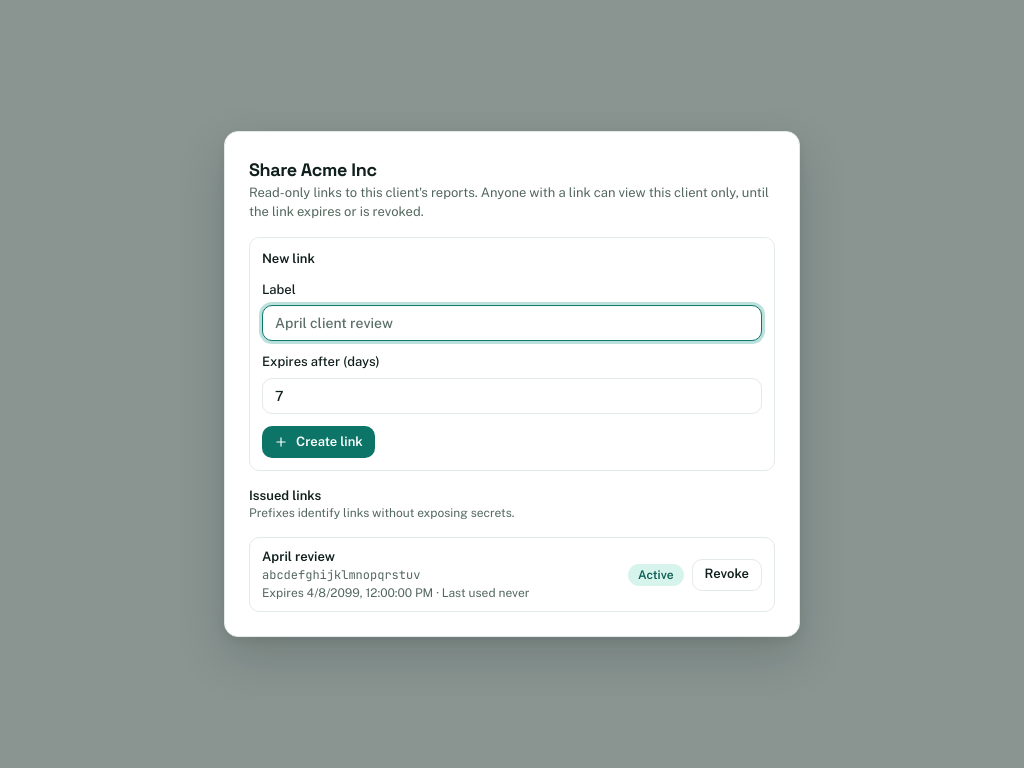
Scenario: magic link sharing › requires confirmation before revoking a link
Click the button "Revoke" at (727, 575), box [692,559,762,591]
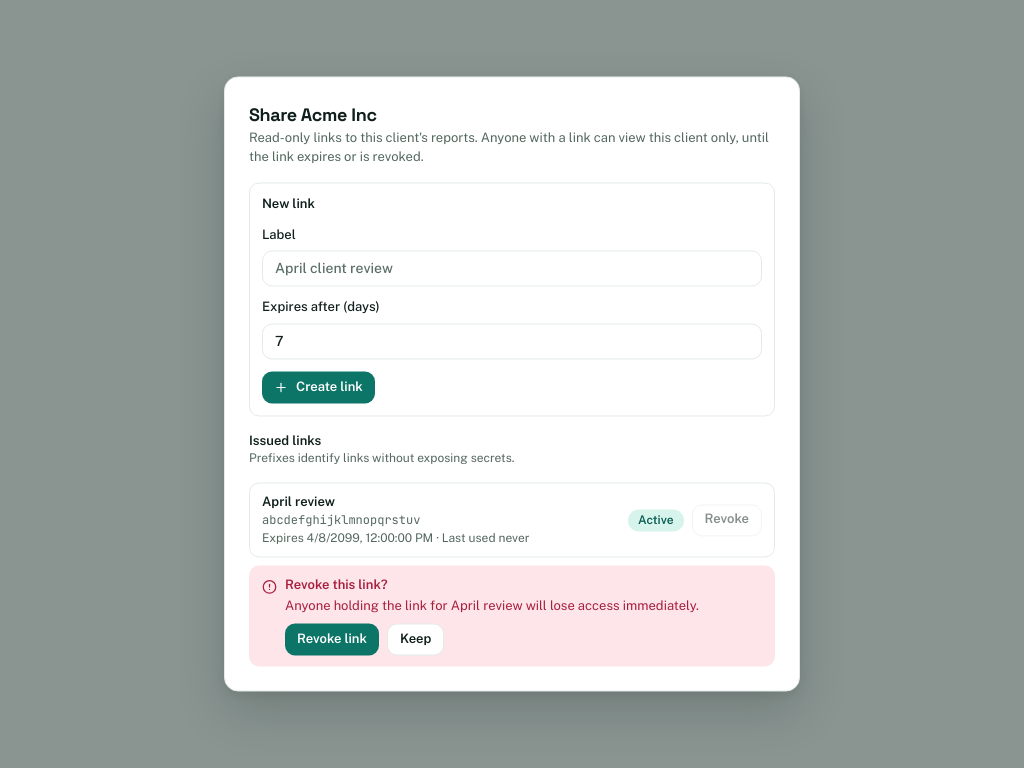
Now the text "will lose access immediately" is shown, box [523,598,699,613]
Click the button "Revoke link" at (332, 640), box [285,624,379,656]
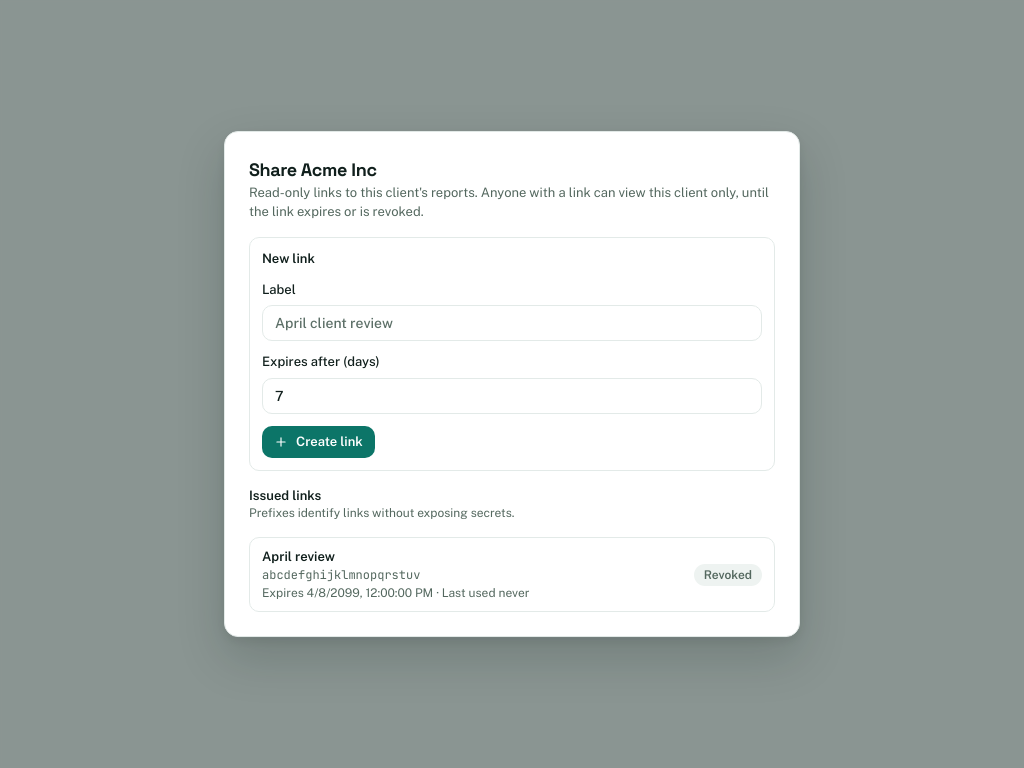
Now the text "Revoked" is shown, box [694,564,762,586]
